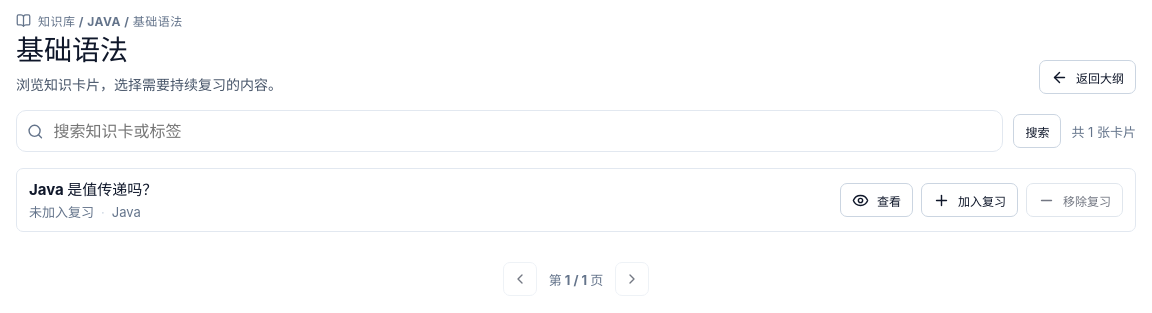
知识库分层导航 › 加入和移除复习更新按钮状态，且不会代替用户评级
Expected: the button "移除复习" is disabled, left=1026, top=183, right=1123, bottom=217
What coordinates should you click on to do the following:
click the button "加入复习"
I would click on:
 (970, 200)
Its box is left=921, top=183, right=1018, bottom=217.
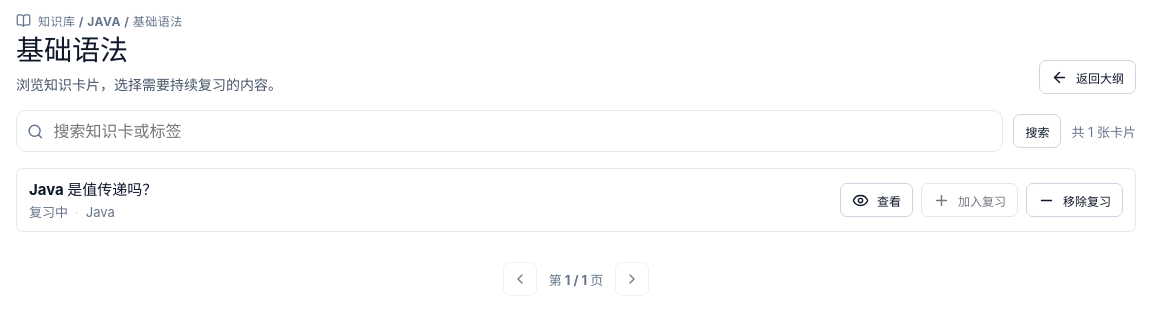
Expected: the button "移除复习" is enabled
Expected: the button "加入复习" is disabled, left=921, top=183, right=1018, bottom=217
Expected: the text "复习中" is shown, left=29, top=204, right=68, bottom=221
What coordinates should you click on to do the following:
click the button "移除复习"
I would click on:
 (1074, 200)
Its box is left=1026, top=183, right=1123, bottom=217.
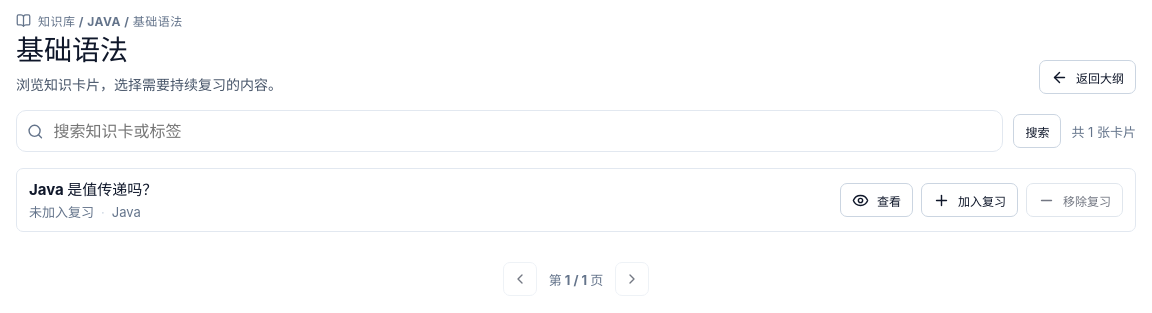
Expected: the button "加入复习" is enabled, left=921, top=183, right=1018, bottom=217
Expected: the button "移除复习" is disabled, left=1026, top=183, right=1123, bottom=217
